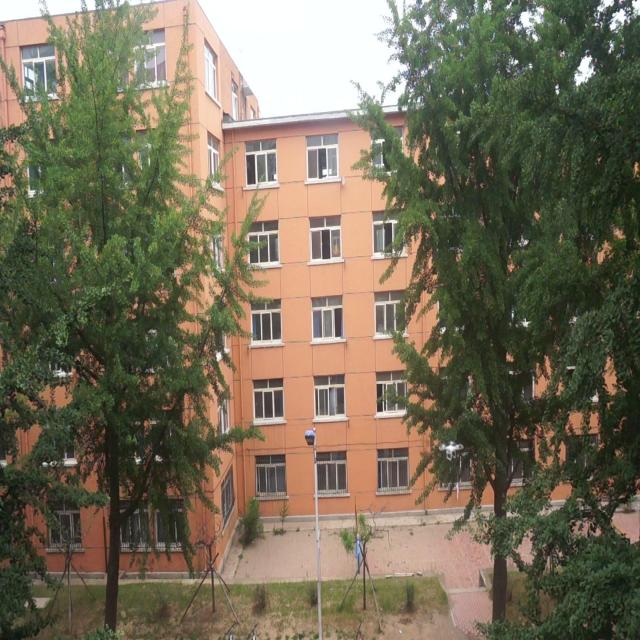drone: (438, 436, 463, 462)
